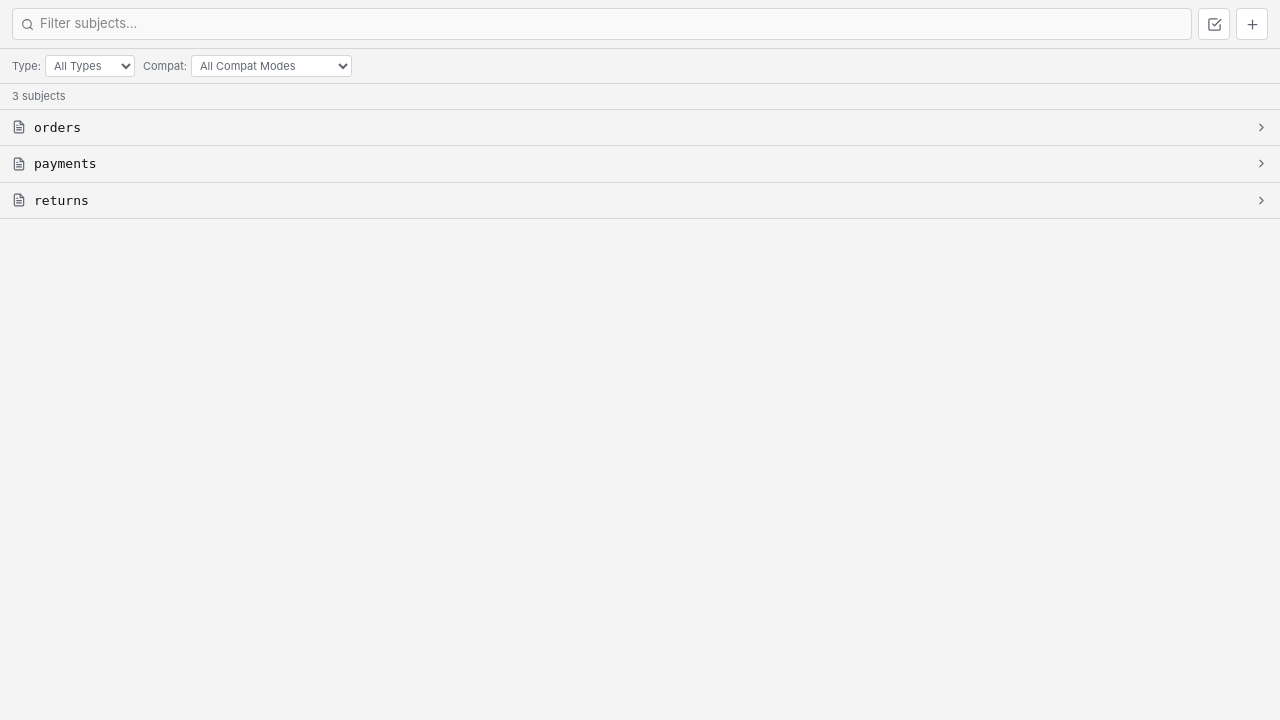
Test: [@schema-list-coverage] bulk delete — confirmation modal › cancel button closes the confirmation modal
Click the button named "enter bulk selection mode": (1214, 24) [1198, 8, 1230, 40]
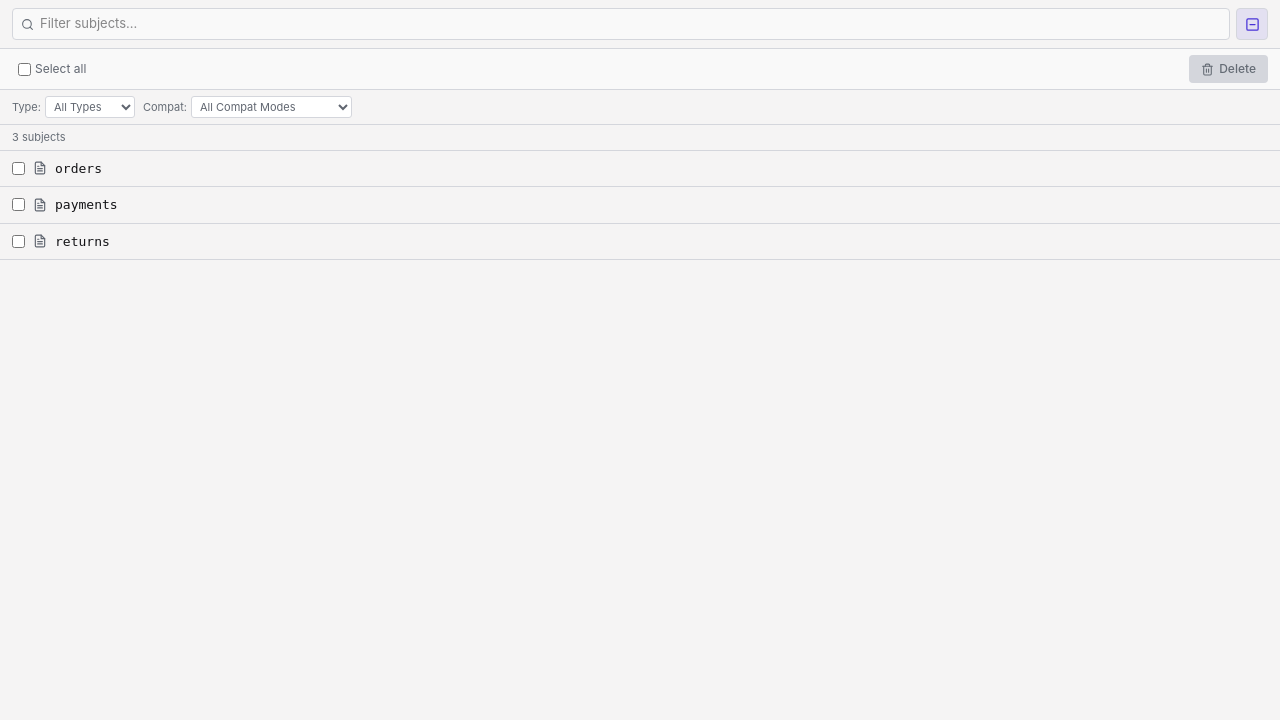
Click the text "orders": (78, 168) [55, 160, 102, 176]
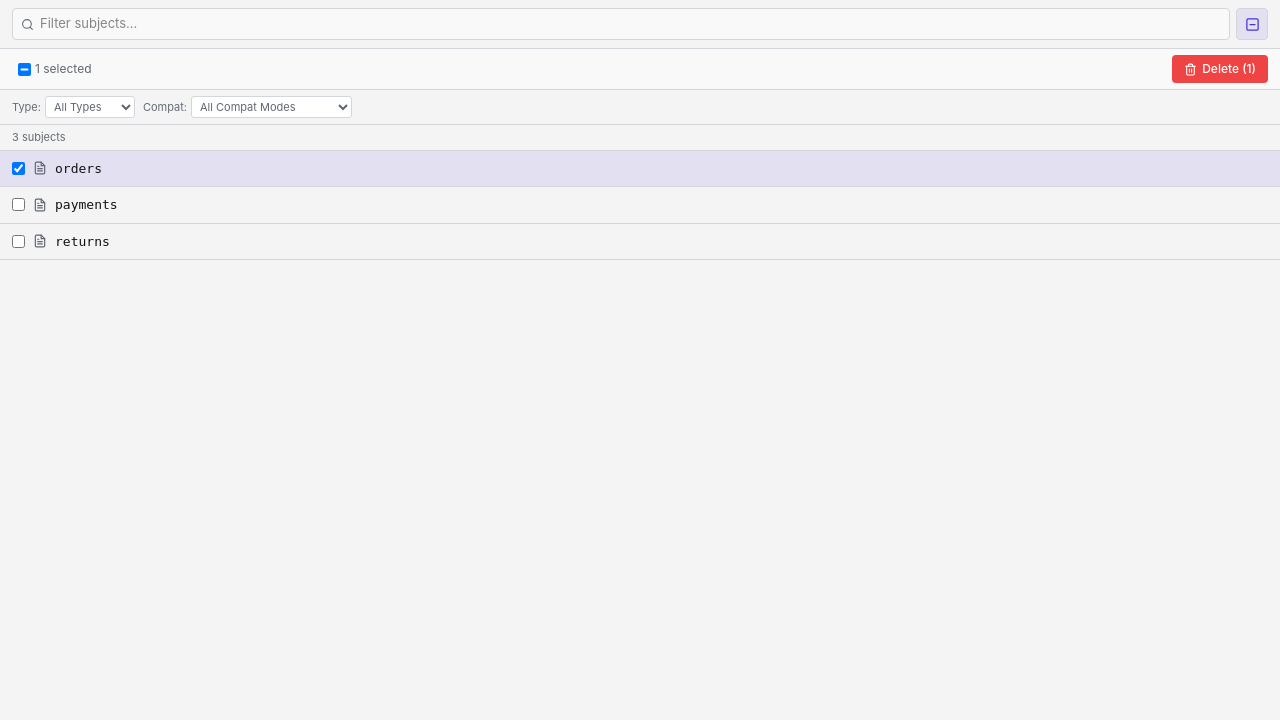
Click the button with aria-label "delete 1 selected": (1220, 69) [1172, 55, 1268, 83]
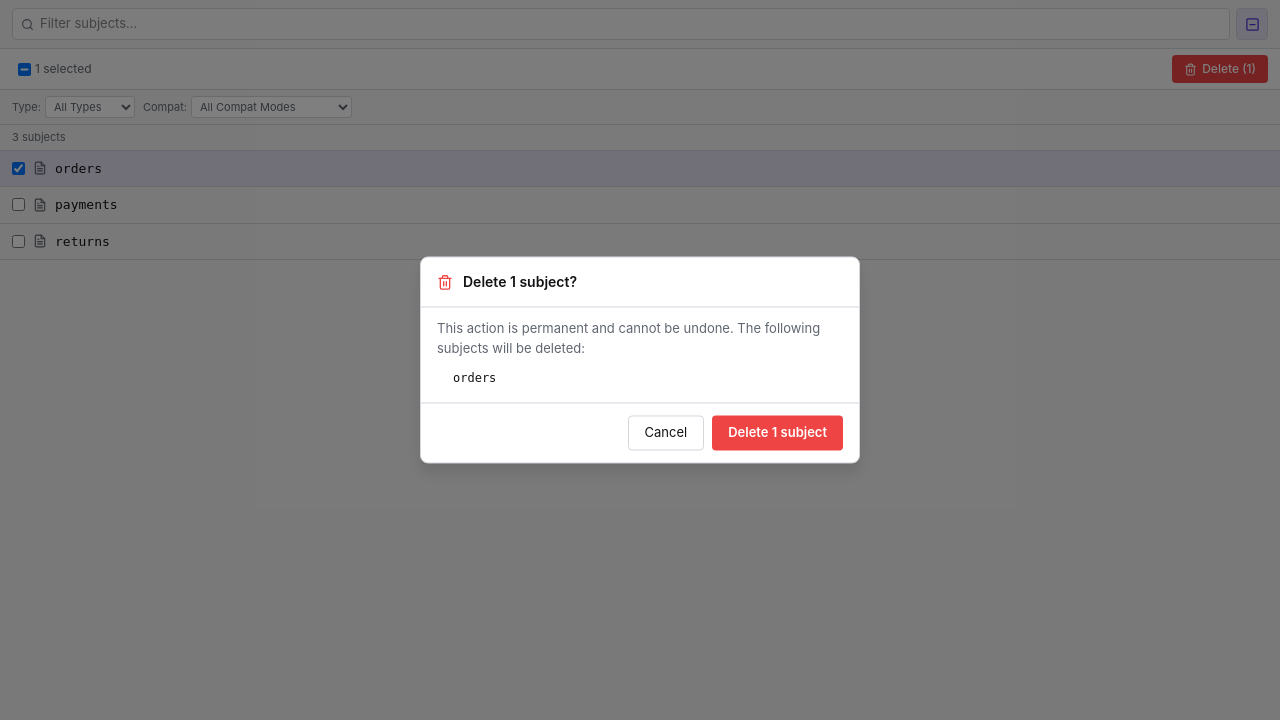
Expected: the dialog is shown, [420, 256, 860, 464]
Click the button "Cancel": (666, 433) [628, 415, 704, 450]
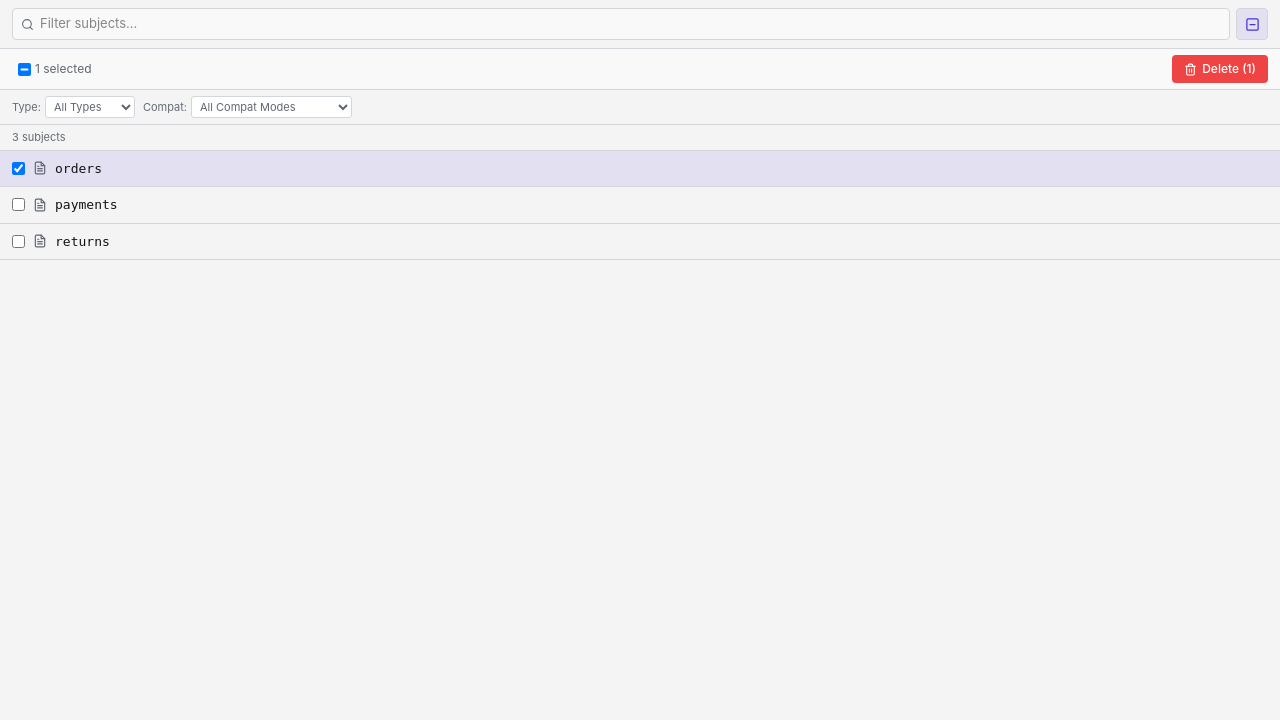
Expected: the dialog is gone
